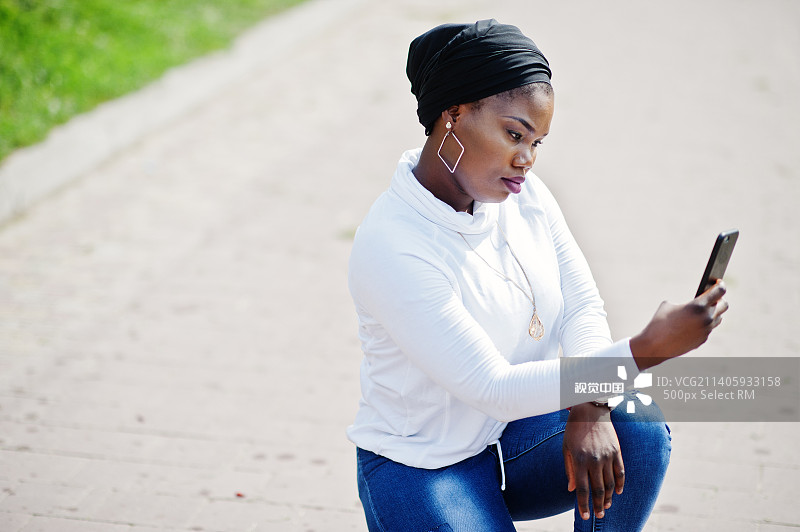reading: (629, 222, 754, 372)
